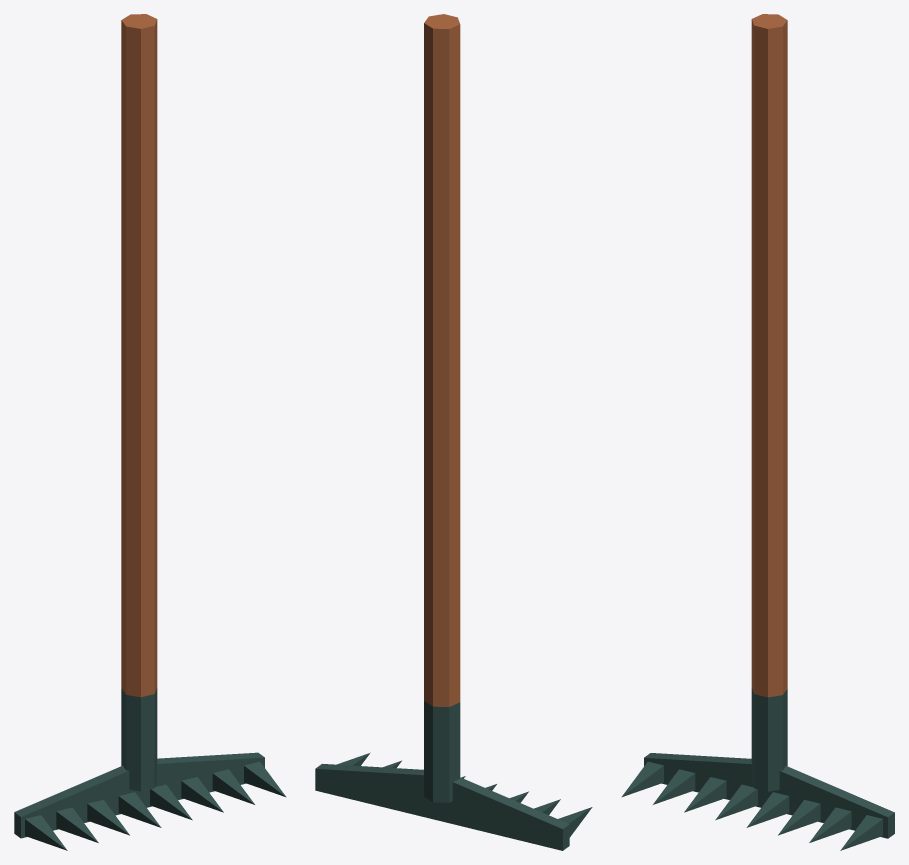
File: rake.fbx
3 views of the same model, side by side, from view 1: azimuth 30°, elevation 25°; view 2: azimuth 150°, elevation 25°; view 3: azimuth 330°, elevation 25° (orthographic).
Parts seen in each view (by area): view 1: rake; view 2: rake; view 3: rake.
Part boxes in pixels (<box>): rake: <box>14,14,286,850</box>; rake: <box>315,14,592,850</box>; rake: <box>621,14,894,850</box>.
Size of the model in its own units: 53.73 by 165 by 18.07.
